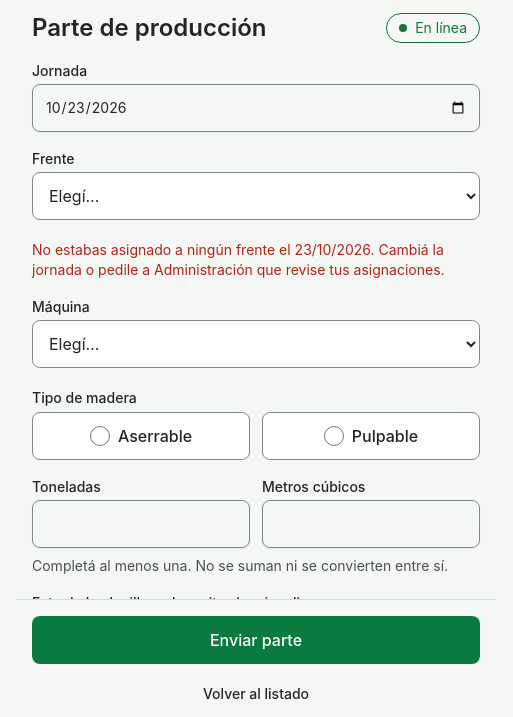
Scenario: ParteNuevoPage (pantalla de campo) › CA-02.4 / CA-02.5: los frentes se piden por la jornada elegida y el que ya no corresponde se limpia con aviso
In the date field labelled "Jornada": (256, 108) [32,84,480,132], type "2026-10-10"
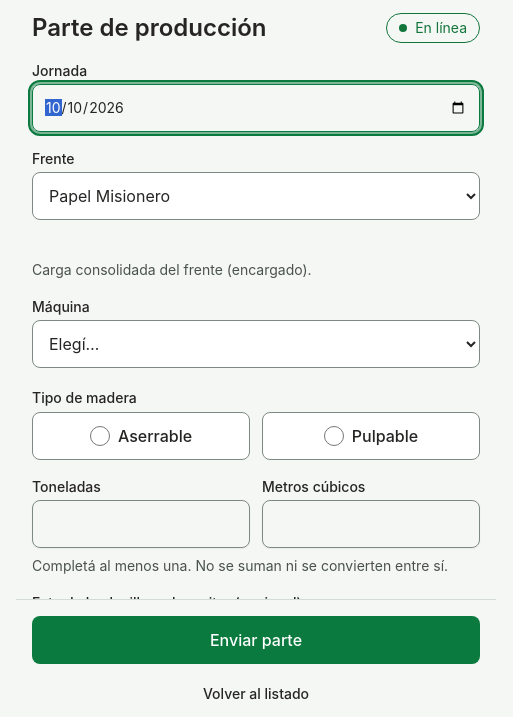
Expected: the dropdown labelled "Frente" shows "Papel Misionero", [32,172,480,220]
In the date field labelled "Jornada": (256, 108) [32,84,480,132], type "2026-10-20"
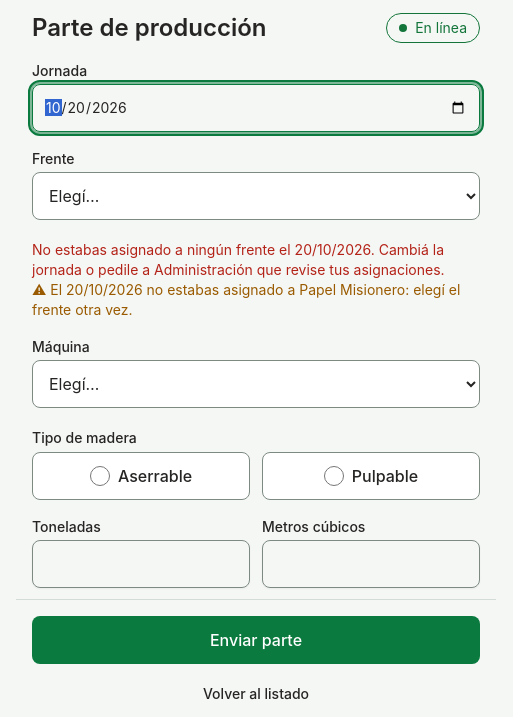
Expected: the text "no estabas asignado a Papel Misionero" is shown, [32,280,480,320]
Expected: the dropdown labelled "Frente" shows "Elegí…", [32,172,480,220]
